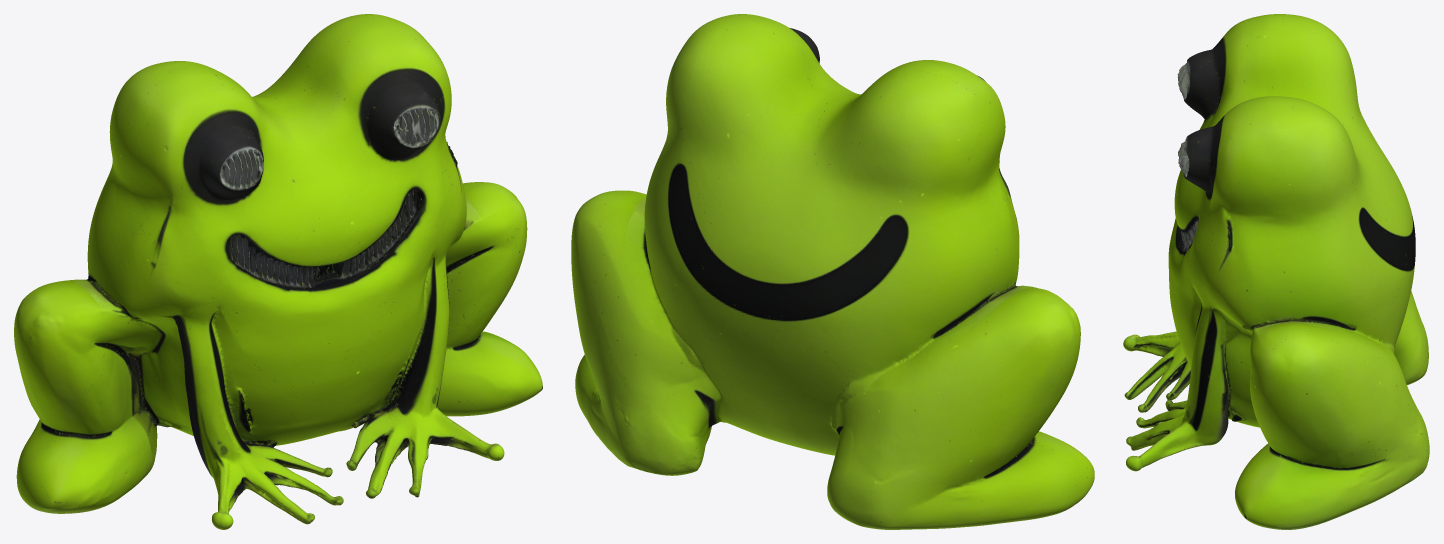
The model's file is frog.glb.
3 views of the same model, side by side, from view 1: azimuth 30°, elevation 25°; view 2: azimuth 150°, elevation 25°; view 3: azimuth 270°, elevation 25° (orthographic). The views are drawn at different scales.
Size of the model in its own units: 2 by 1.55 by 1.18.
Materials: 1 (1 with a texture image).
